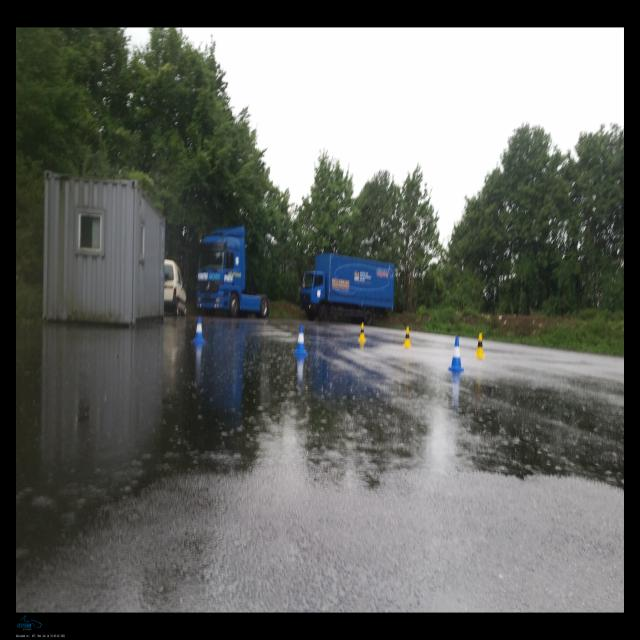blue_cone: (449, 336, 464, 371), (294, 324, 307, 354), (193, 316, 205, 342)
yellow_cone: (474, 333, 486, 357), (402, 326, 412, 346), (358, 322, 366, 340)
